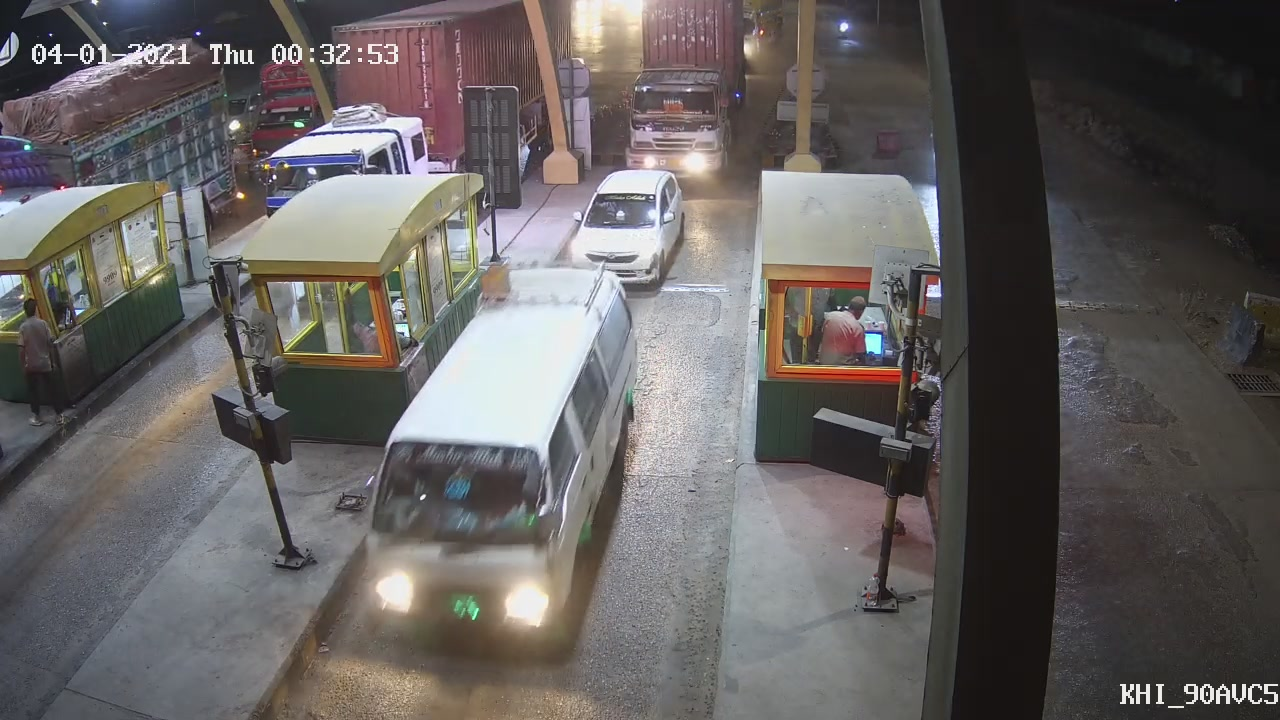F3: (343, 268, 646, 662)
